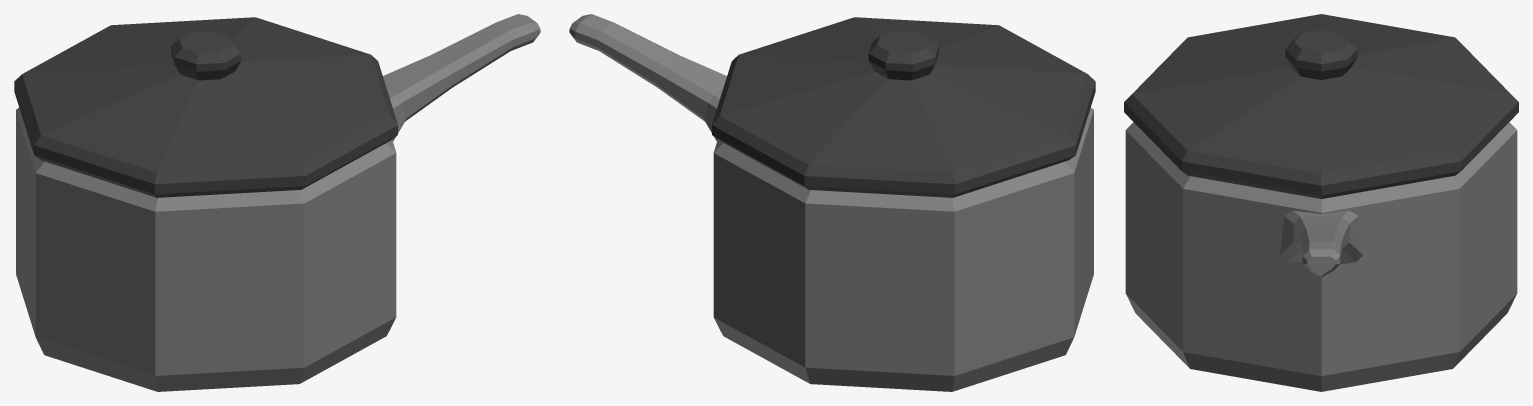
File: Pot.fbx
3 views of the same model, side by side, from view 1: azimuth 30°, elevation 25°; view 2: azimuth 150°, elevation 25°; view 3: azimuth 270°, elevation 25° (orthographic).
Parts seen in each view (by area): view 1: Panela; view 2: Panela; view 3: Panela.
Boxes of the visible parts, x1,y1,x2,y2 form: Panela: (14,14,540,391); Panela: (569,14,1095,391); Panela: (1124,14,1518,391).
Bounding box in the file's own units: 0.4269 × 0.2294 × 0.2933.
Materials: 1 (1 with a texture image).
